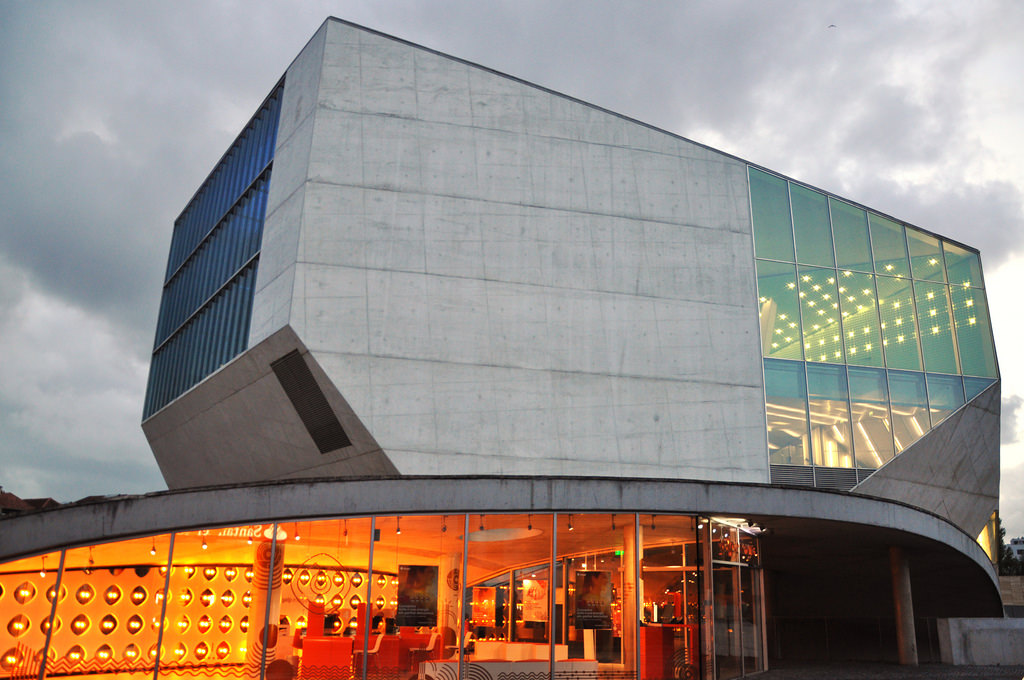musica: (141, 15, 1004, 577)
